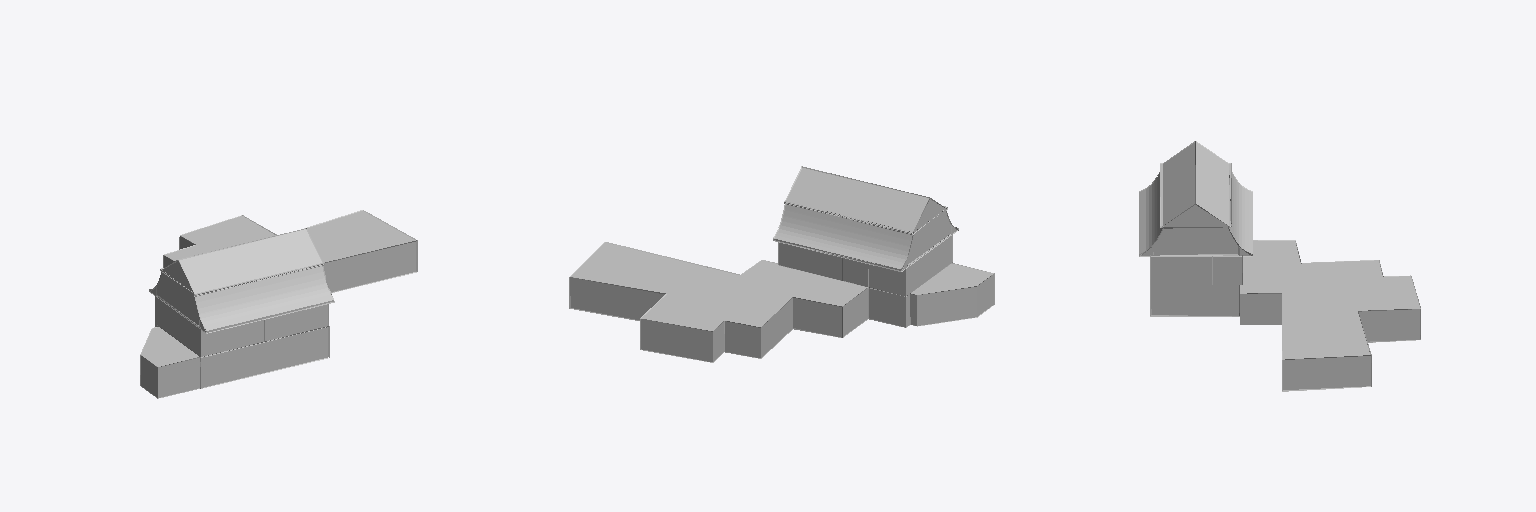
File: H19_wireframe.obj
The picture shows the model from 3 angles: view 1: azimuth 30°, elevation 25°; view 2: azimuth 150°, elevation 25°; view 3: azimuth 270°, elevation 25°; orthographic projection.
Visible parts, largest first — view 1: Haus_19_v5_Glass_transparent_with_low_glossy, Haus_19.001_Base_Material_-_Glazing; view 2: Haus_19_v5_Glass_transparent_with_low_glossy, Haus_19.001_Base_Material_-_Glazing; view 3: Haus_19_v5_Glass_transparent_with_low_glossy, Haus_19.001_Base_Material_-_Glazing.
Part boxes in pixels (bbox=[...]): Haus_19_v5_Glass_transparent_with_low_glossy: bbox=[141, 211, 416, 397]; Haus_19.001_Base_Material_-_Glazing: bbox=[140, 210, 417, 398]; Haus_19_v5_Glass_transparent_with_low_glossy: bbox=[570, 168, 993, 361]; Haus_19.001_Base_Material_-_Glazing: bbox=[569, 166, 994, 362]; Haus_19_v5_Glass_transparent_with_low_glossy: bbox=[1139, 142, 1420, 389]; Haus_19.001_Base_Material_-_Glazing: bbox=[1139, 141, 1420, 391].
Size of the model in its own units: 170 by 56.67 by 128.